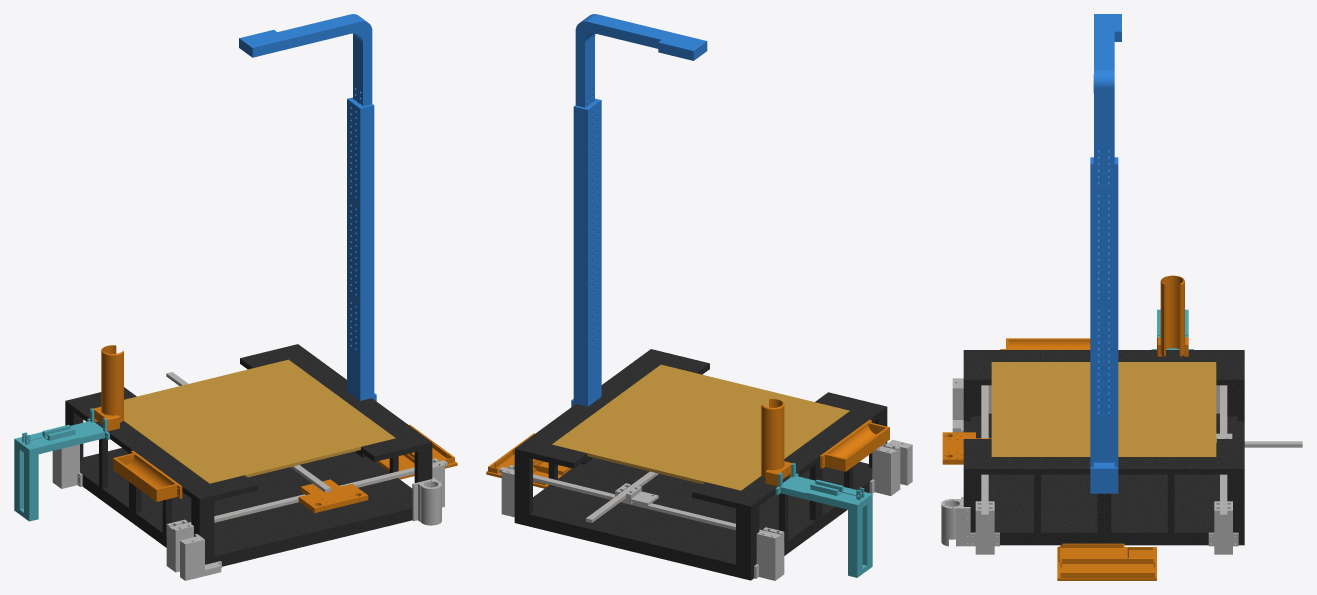
The model's file is SDbase_FINAL.glb.
3 renders of one model, left to right at view 1: azimuth 30°, elevation 25°; view 2: azimuth 150°, elevation 25°; view 3: azimuth 270°, elevation 25°, orthographic. The views are drawn at different scales.
Parts seen in each view (by area): view 1: Solid1 (×26), Solid3 (×2); view 2: Solid1 (×25), Solid3 (×3); view 3: Solid1 (×27), Solid3 (×2).
Part boxes in pixels (x1=…): Solid1 (×26): x1=14, y1=14, x2=457, y2=580; Solid3 (×2): x1=52, y1=444, x2=193, y2=572; Solid1 (×25): x1=486, y1=14, x2=912, y2=580; Solid3 (×3): x1=501, y1=443, x2=900, y2=580; Solid1 (×27): x1=941, y1=14, x2=1244, y2=580; Solid3 (×2): x1=970, y1=501, x2=1238, y2=554.
Size of the model in its own units: 0.8309 by 0.9398 by 0.6533.
Materials: 7 (1 with a texture image).
